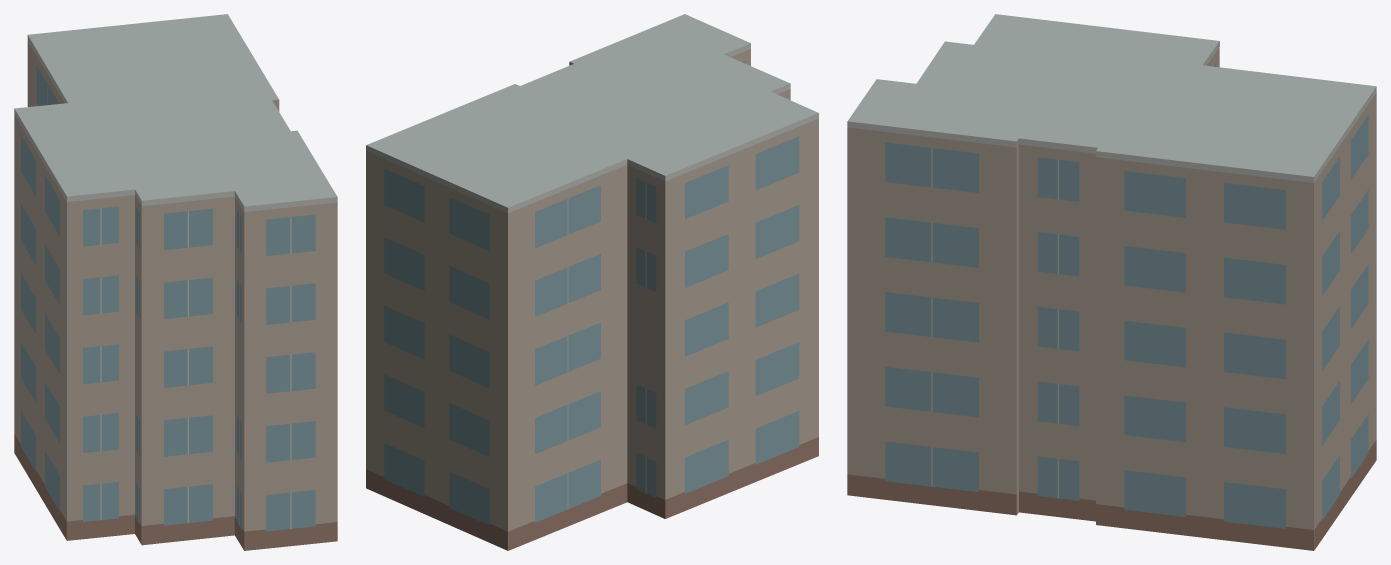
The model's file is survey-upis-32817034.glb.
The picture shows the model from 3 angles, left to right: view 1: azimuth 30°, elevation 25°; view 2: azimuth 150°, elevation 25°; view 3: azimuth 270°, elevation 25°; orthographic projection. The views are drawn at different scales.
Visible parts, largest first — view 1: survey-upis-32817034.tmp; view 2: survey-upis-32817034.tmp; view 3: survey-upis-32817034.tmp.
Part boxes in pixels (x1,y1,x2,y2): survey-upis-32817034.tmp: (14,14,337,550); survey-upis-32817034.tmp: (366,14,818,550); survey-upis-32817034.tmp: (847,14,1376,550).
Bounding box in the file's own units: 14.17 × 15.15 × 19.44.
